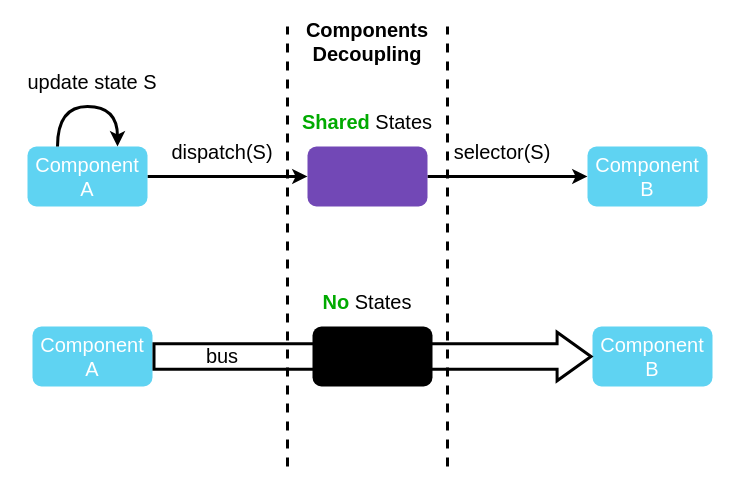
The diagram is 729 pixels wide and 486 high, and some of its shapes have lost their labels. Each missing label, with the centre of its shape:
"Redux" goes at point 367,176.
"Suber" goes at point 372,356.
